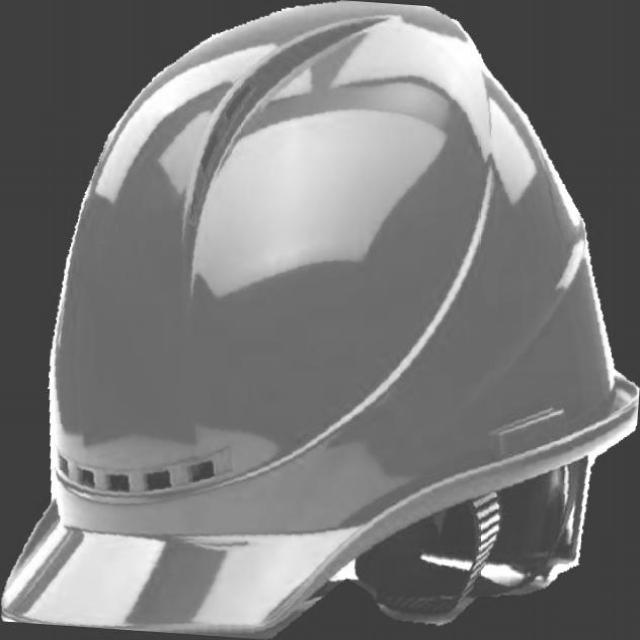construction helmet: (1, 1, 640, 640)
